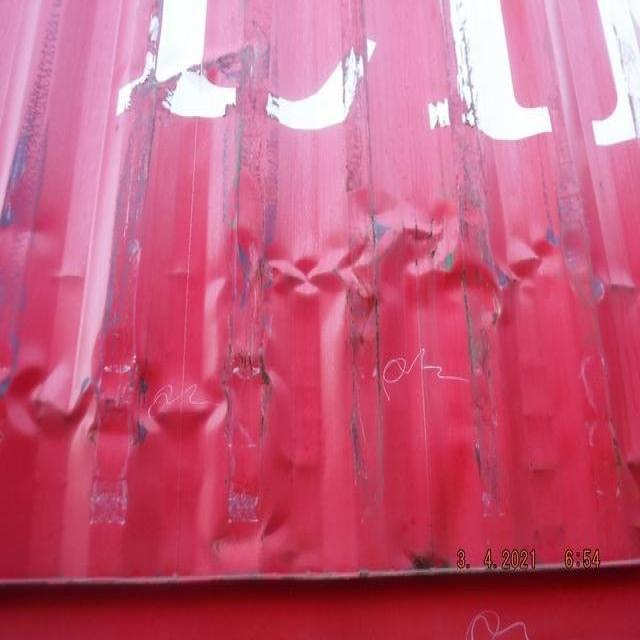Minor-Dent: (1, 326, 323, 574), (202, 179, 615, 328)
